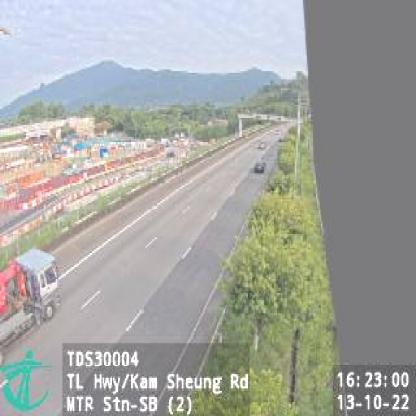Car: (254, 159, 268, 174)
Truck: (0, 246, 61, 366)
